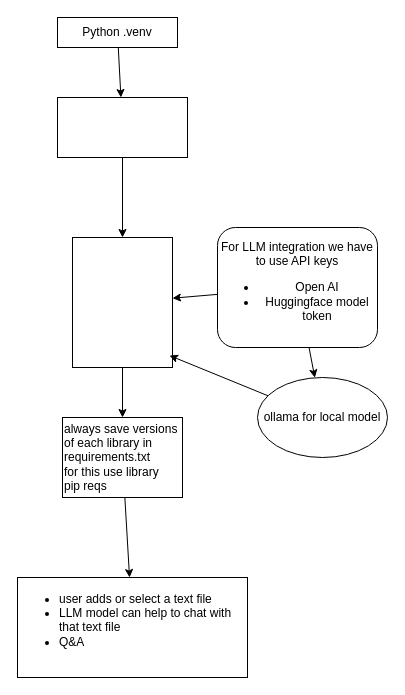
Some shapes in this 405 by 695 pixel diagram are drawn without their labels. The centre of each missing label's shape, as x and y in pixels:
"installation of required libraries" goes at pixel 122 127.
"pandas numpy matplotlib seaborn plotly streamlit" goes at pixel 122 302.
